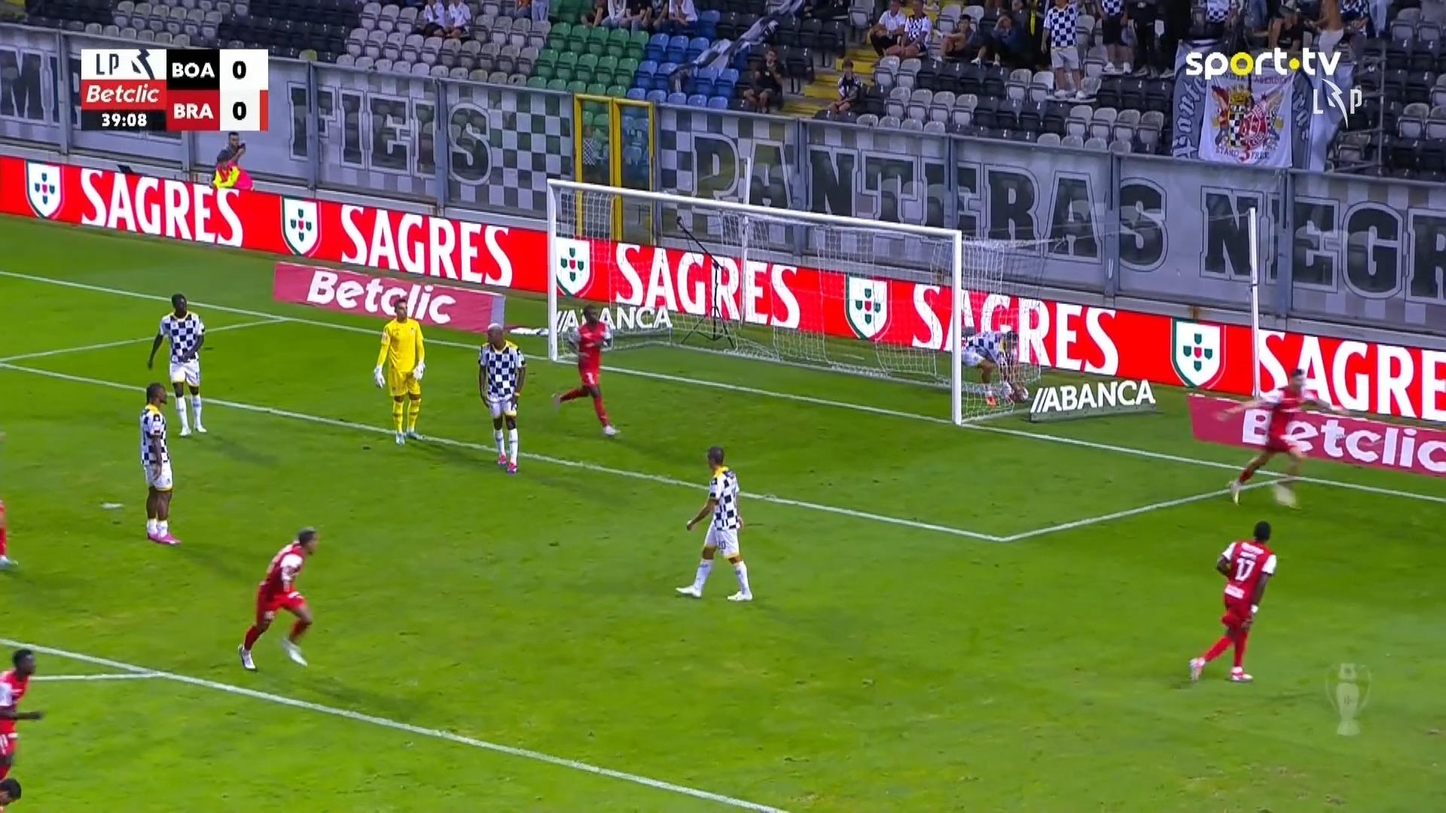goalkeeper: (372, 294, 426, 445)
player: (1215, 367, 1349, 509), (1188, 519, 1277, 683), (674, 445, 753, 601), (236, 525, 319, 671), (551, 304, 620, 437), (146, 292, 209, 437), (476, 321, 526, 474), (0, 647, 44, 810), (139, 382, 182, 545), (960, 325, 1023, 408)
